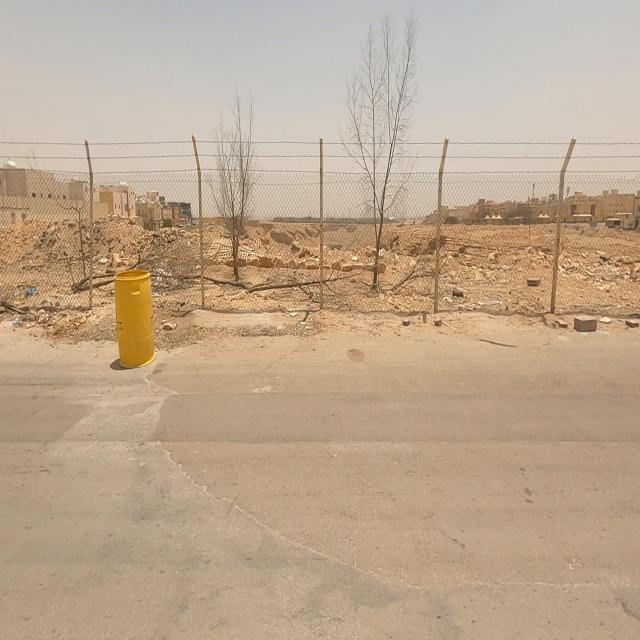debris: (0, 266, 59, 322)
